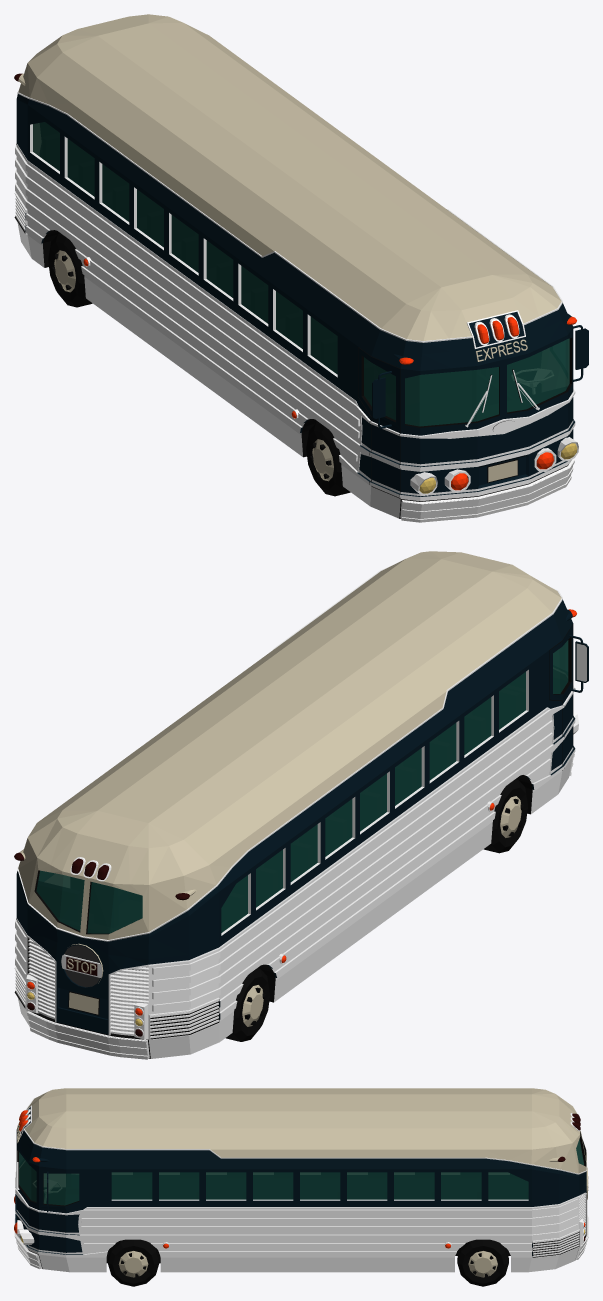
Rendered from IntercityBus.FBX.
3 views of the same model, one above another, from view 1: azimuth 30°, elevation 25°; view 2: azimuth 150°, elevation 25°; view 3: azimuth 270°, elevation 25° (orthographic). The views are drawn at different scales.
Parts seen in each view (by area): view 1: IntercityBus, interieur, bumper_f, wheels_b_r, wheel_f_r, lights, mirrors; view 2: IntercityBus, interieur, wheels_b_r, wheel_f_r, bumper_b, stopSign_b, lights, mirrors; view 3: IntercityBus, interieur, wheels_b_l, wheel_f_l, lights.
Part boxes in pixels (x1,y1,x2,y2): IntercityBus: (14, 14, 575, 519); interieur: (33, 122, 569, 426); bumper_f: (401, 460, 574, 522); wheels_b_r: (48, 233, 92, 307); wheel_f_r: (306, 422, 350, 496); lights: (18, 73, 578, 495); mirrors: (372, 325, 588, 428); IntercityBus: (14, 551, 575, 1058); interieur: (36, 640, 568, 933); wheels_b_r: (226, 968, 269, 1041); wheel_f_r: (483, 779, 527, 853); bumper_b: (27, 1012, 147, 1059); stopSign_b: (61, 943, 103, 988); lights: (19, 609, 578, 1039); mirrors: (569, 635, 588, 692); IntercityBus: (15, 1088, 588, 1272); interieur: (19, 1140, 583, 1205); wheels_b_l: (457, 1239, 508, 1286); wheel_f_l: (107, 1239, 159, 1286); lights: (17, 1109, 583, 1249).
Bounding box in the file's own units: 36.97 × 37.13 × 126.
